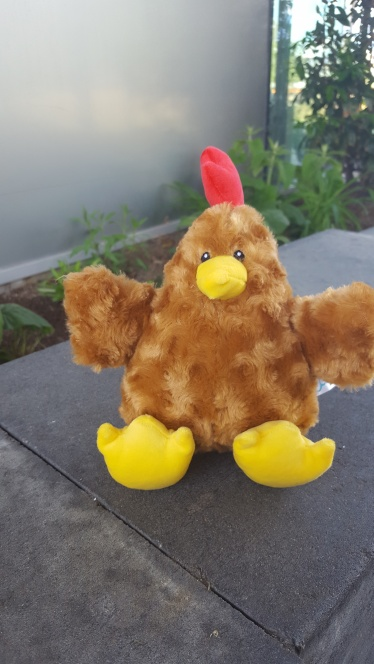chicken_front: (61, 143, 373, 490)
